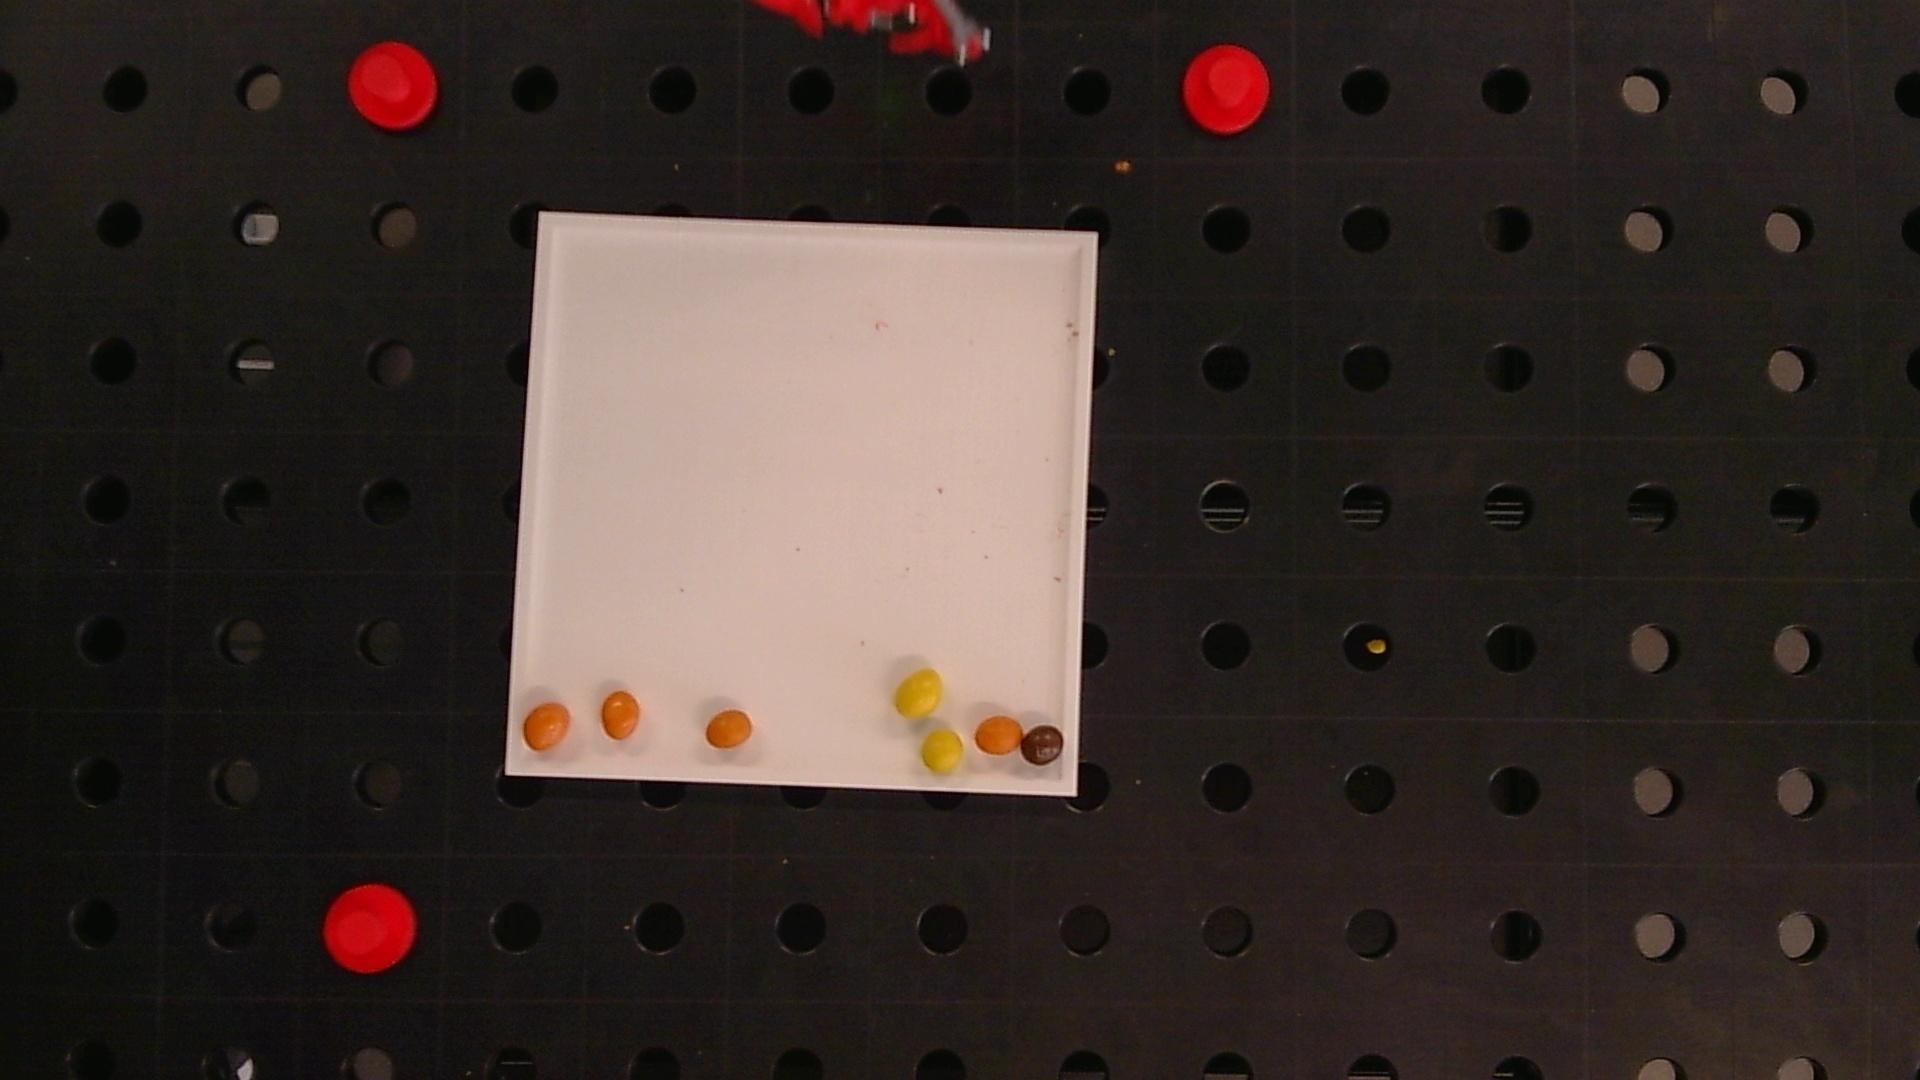brown: (1021, 724, 1064, 765)
orange: (522, 703, 571, 750), (975, 715, 1023, 754), (601, 691, 640, 738), (705, 709, 753, 748)
yellow: (895, 669, 943, 719), (920, 729, 964, 774)
